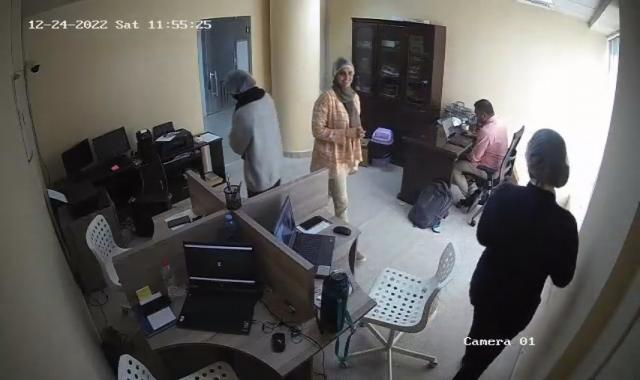hairnet: (526, 126, 568, 190), (216, 68, 256, 98), (328, 56, 356, 90)
no_hairnet: (471, 97, 496, 127)
